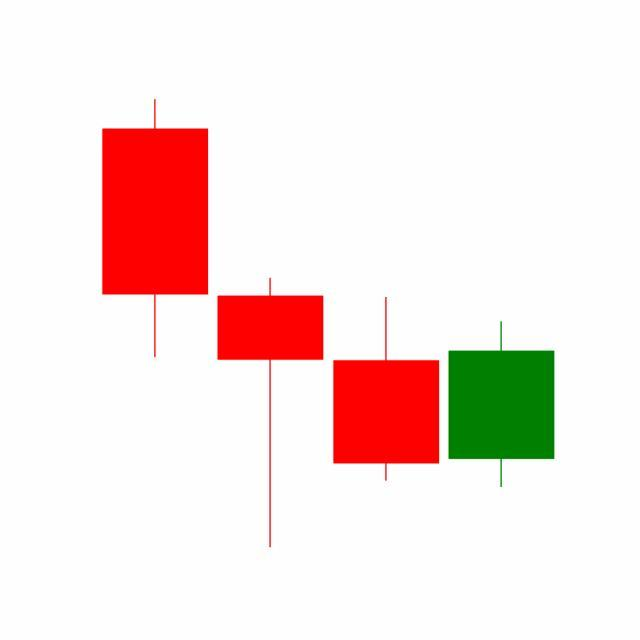Upside-Downside Gap Three Methods: (211, 274, 555, 548)
